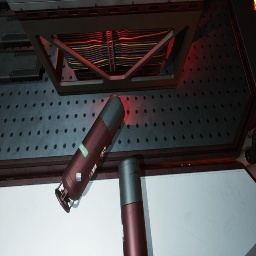NitrogenTank ,: (55, 93, 125, 213), (118, 157, 148, 256)
